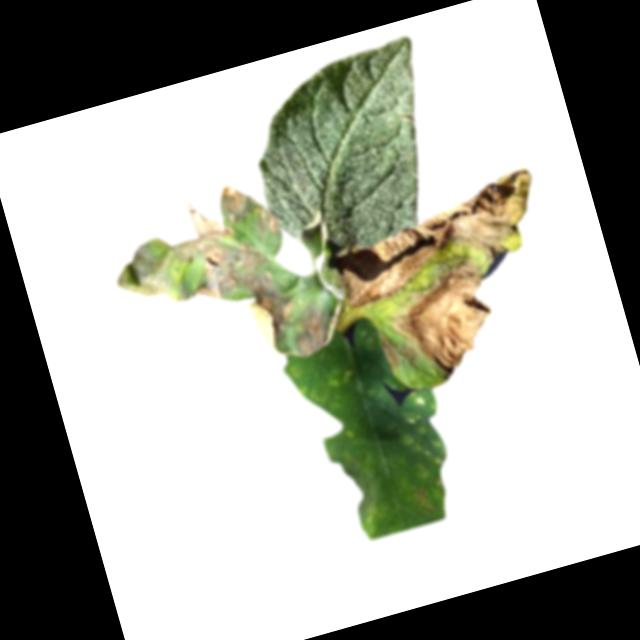Late_blight: (322, 164, 554, 311), (97, 172, 293, 321), (384, 256, 507, 386), (235, 262, 305, 359), (282, 294, 347, 360), (353, 492, 389, 541), (408, 482, 440, 518), (377, 333, 403, 371), (325, 361, 358, 389)
healthy: (233, 33, 461, 267)
